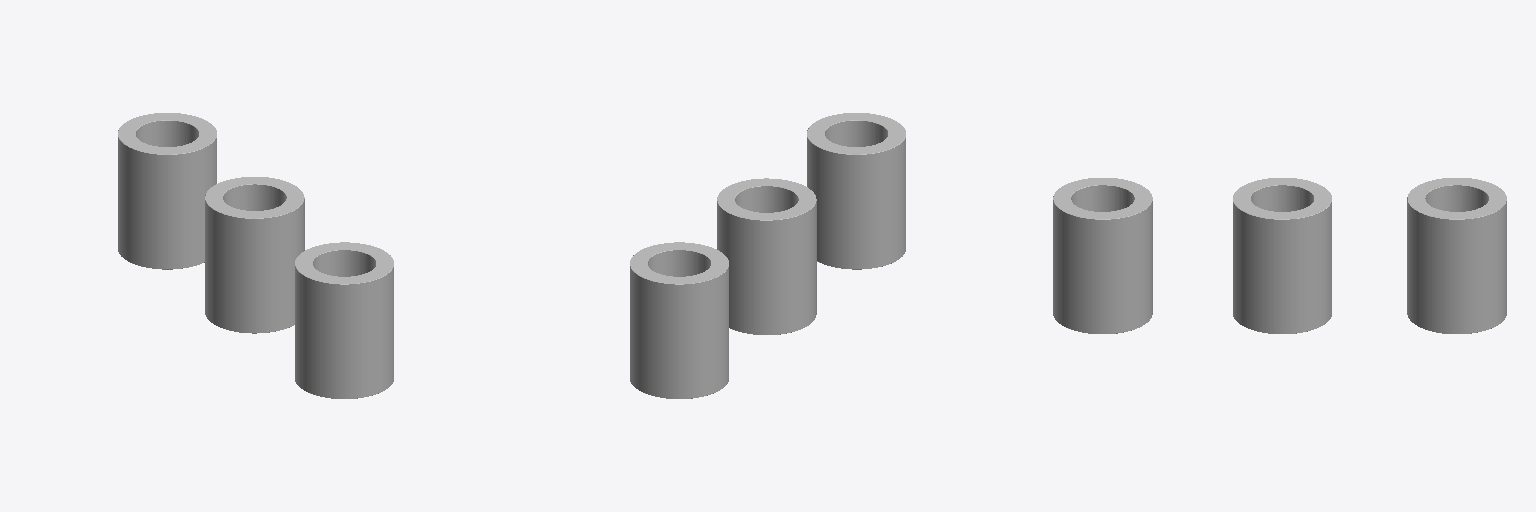
Rendered from ODEON LIGHT 3570-1C_3571-1C_3572-1C.obj.
3 renders of one model, left to right at view 1: azimuth 30°, elevation 25°; view 2: azimuth 150°, elevation 25°; view 3: azimuth 270°, elevation 25°, orthographic.
Parts seen in each view (by area): view 1: Cylinder012, Cylinder010, Cylinder011; view 2: Cylinder011, Cylinder012, Cylinder010; view 3: Cylinder011, Cylinder012, Cylinder010.
Part boxes in pixels (x1,y1,x2,y2): Cylinder012: (295,242,393,398); Cylinder010: (205,177,304,333); Cylinder011: (118,113,216,269); Cylinder011: (630,242,728,398); Cylinder012: (807,113,905,269); Cylinder010: (717,178,816,334); Cylinder011: (1407,178,1506,333); Cylinder012: (1053,178,1152,333); Cylinder010: (1233,178,1331,333).
Bounding box in the file's own units: 7.46 × 9.5 × 33.97.